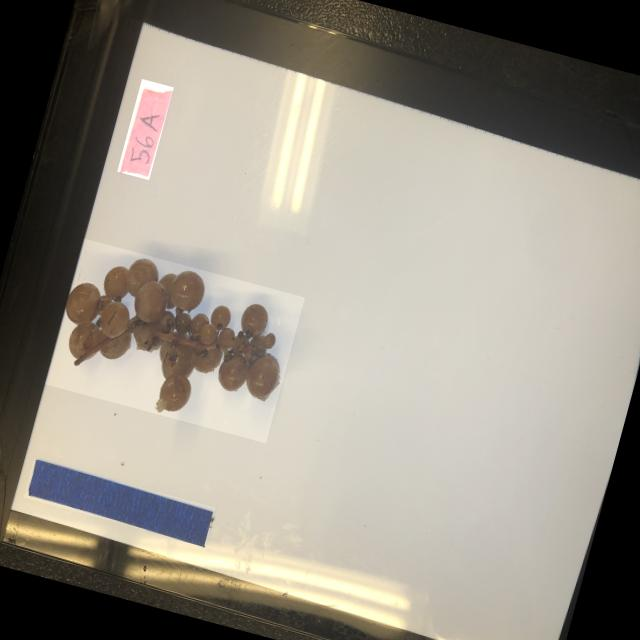grape_cluster: (44, 237, 304, 442)
index: (116, 78, 174, 178)
measure_label: (23, 458, 215, 545)
